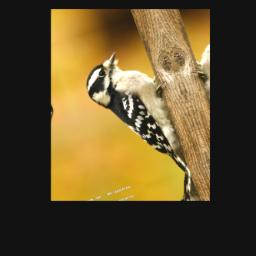Woodpecker: (77, 39, 195, 194)
